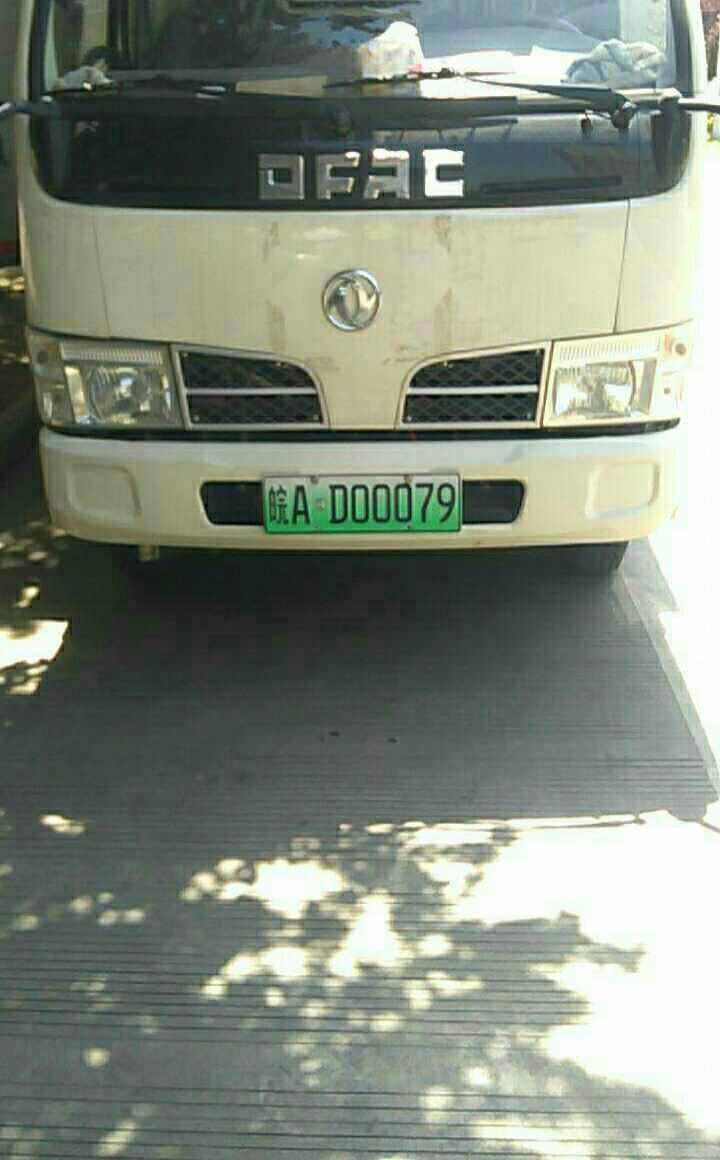car: (265, 479, 472, 541)
